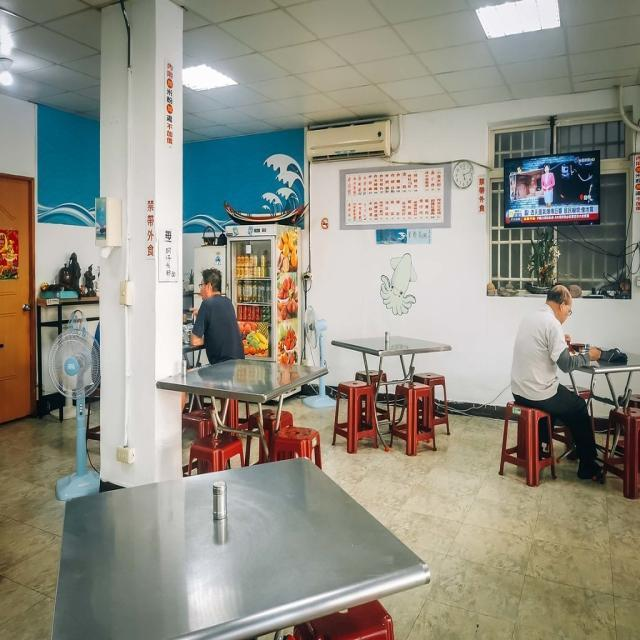table: (56, 470, 407, 640), (164, 334, 328, 462), (332, 319, 459, 458)
